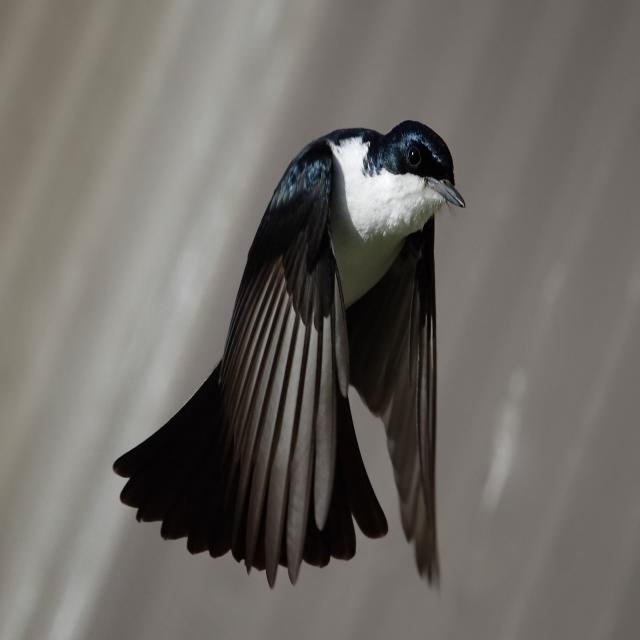birds: (113, 99, 469, 607)
